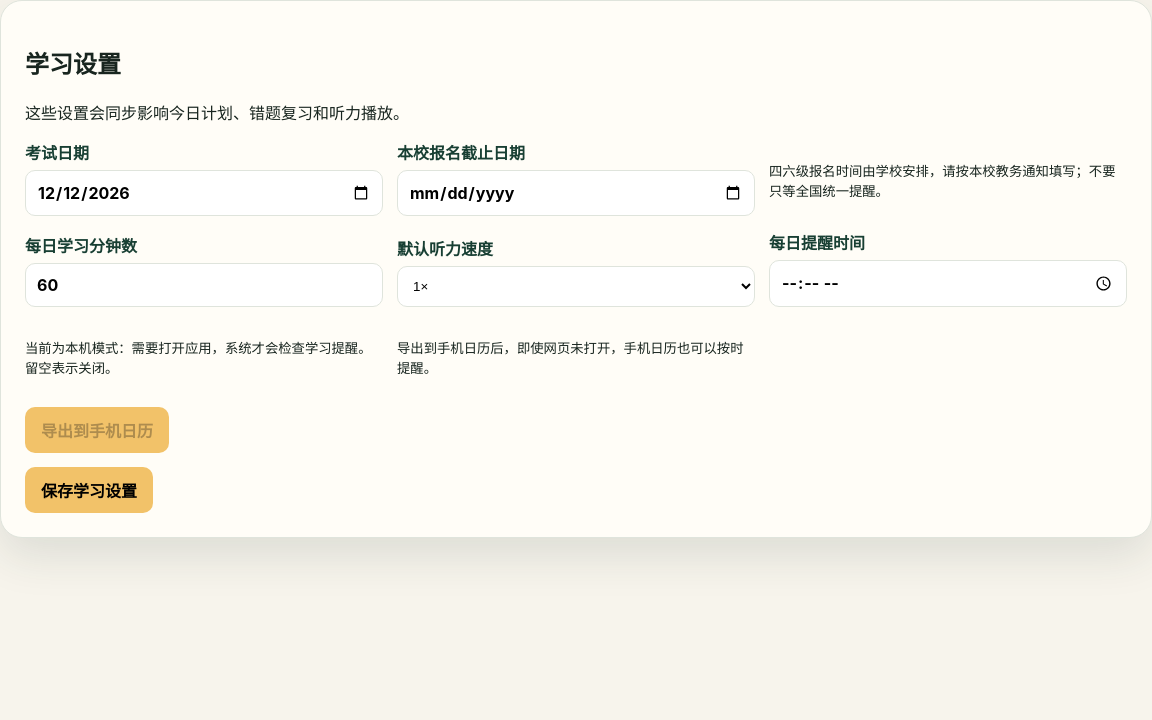
it: LearningSettings › saves the exam date, daily study time, and default listening speed
The image size is (1152, 720).
Type "2026-12-19" into the date field labelled "考试日期" at point(204, 193), box [25,170,383,216]
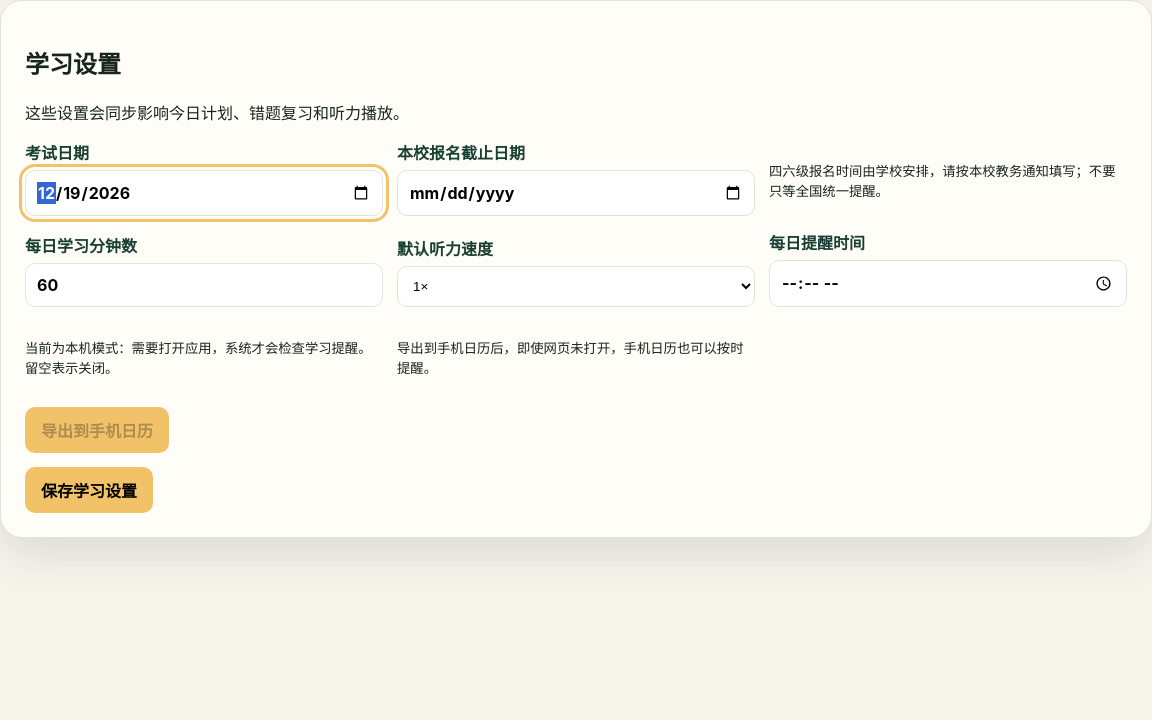
Replace the text in the number field labelled "每日学习分钟数" with "75" at point(204, 285), box [25,263,383,307]
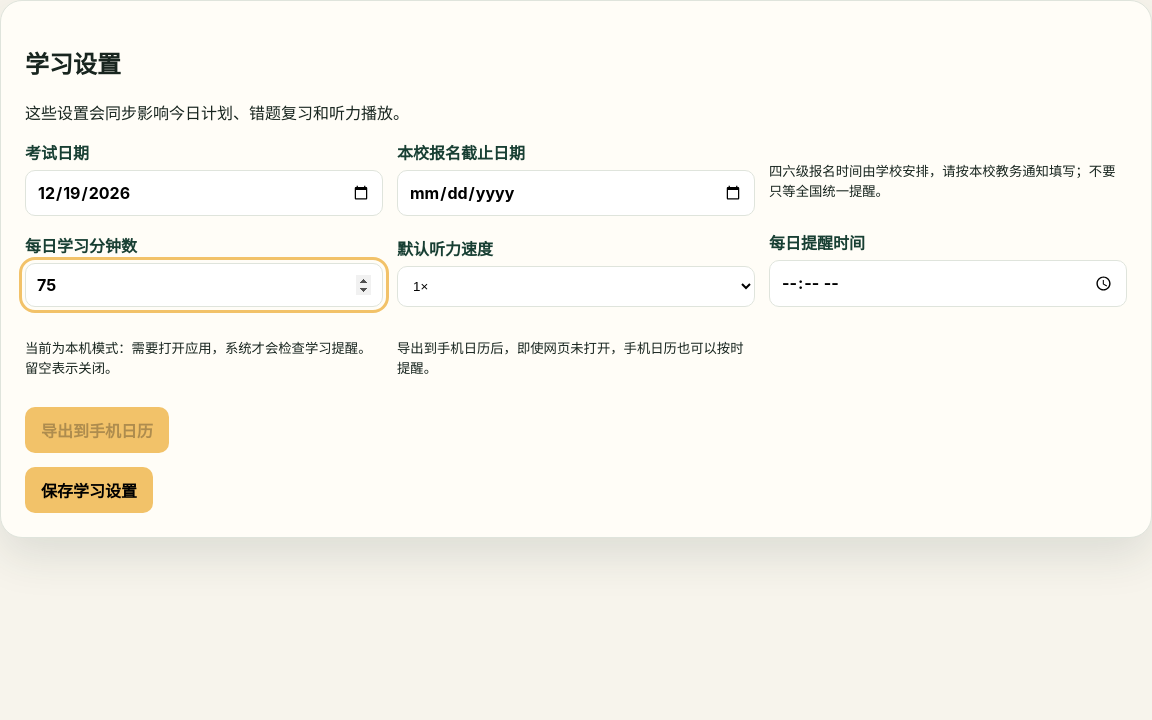
Select "1.25×" in the dropdown labelled "默认听力速度" at point(576, 286), box [397,266,755,307]
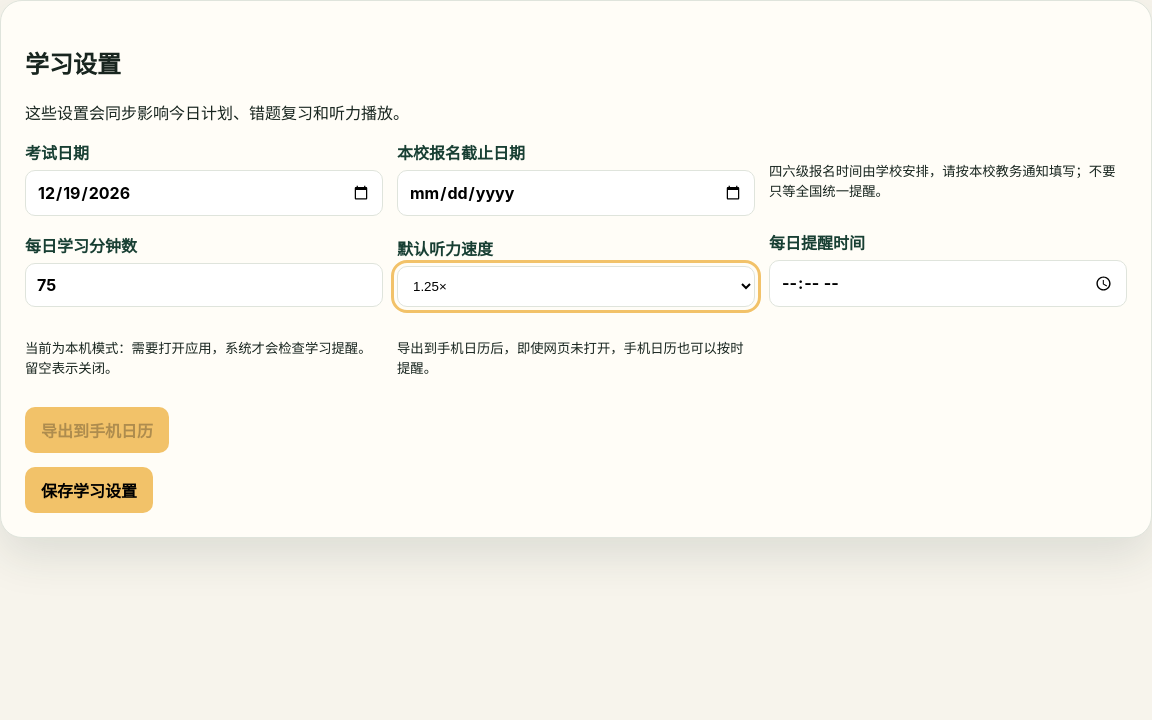
Type "20:30" into the time field labelled "每日提醒时间" at point(948, 283), box [769,260,1127,307]
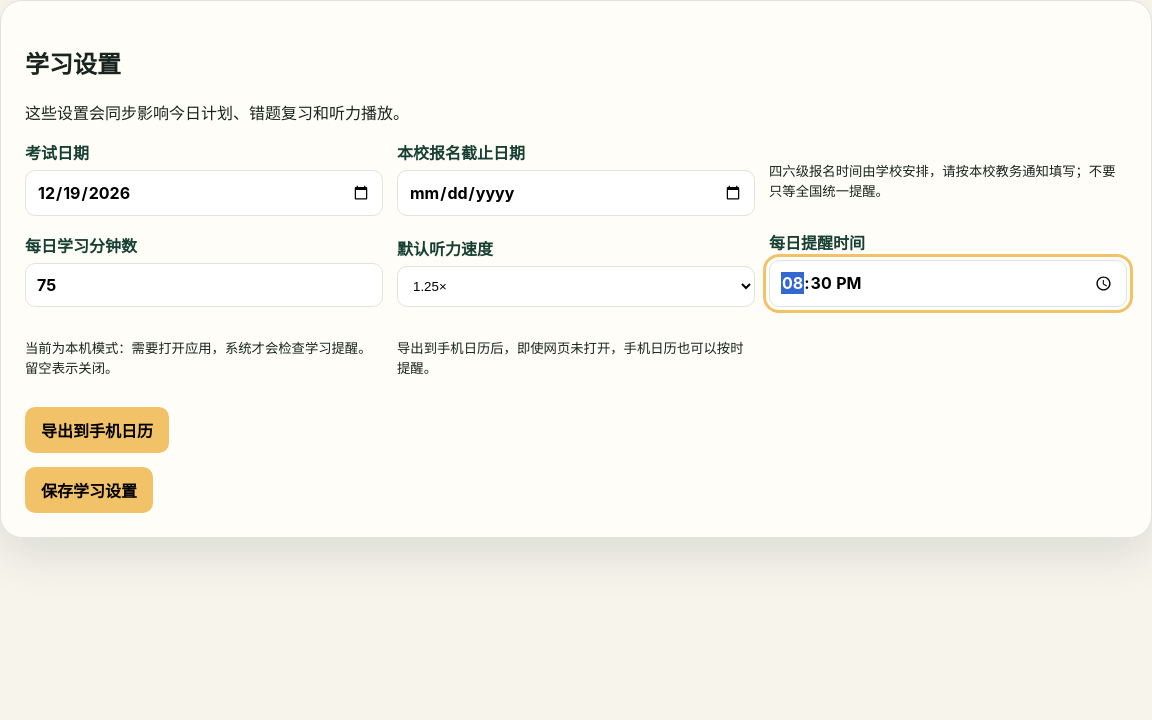
Type "2026-10-10" into the date field labelled "本校报名截止日期" at point(576, 193), box [397,170,755,216]
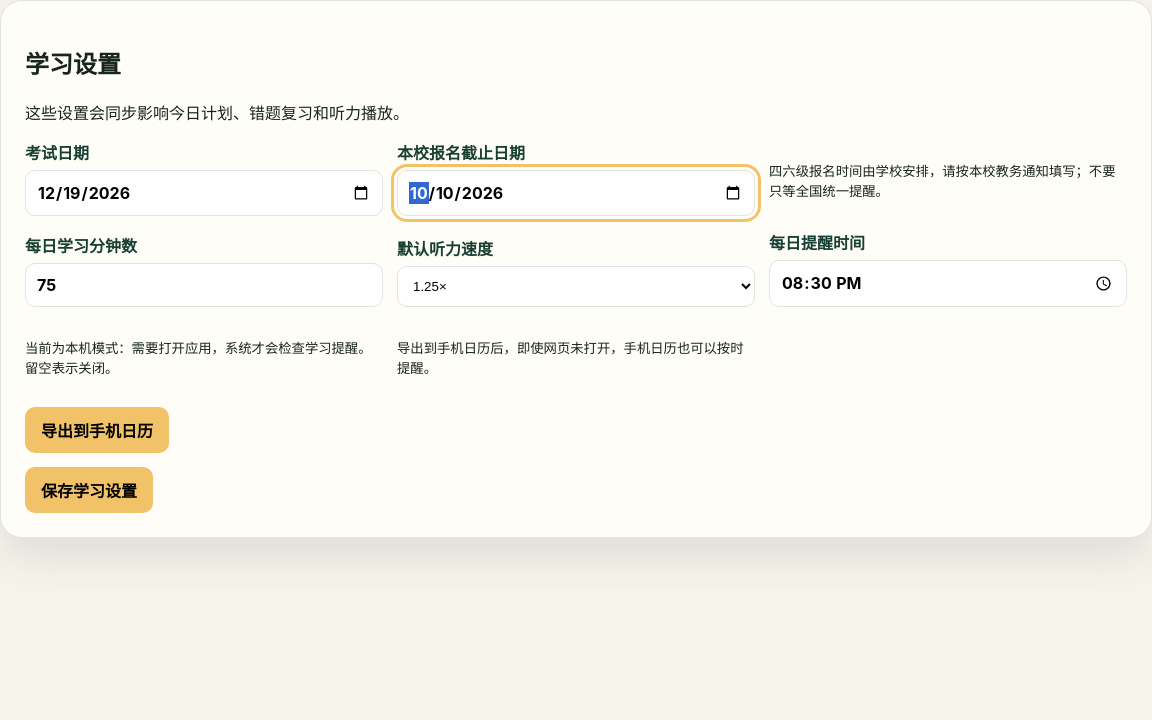
Click the button "保存学习设置" at point(89, 490), box [25,467,153,513]
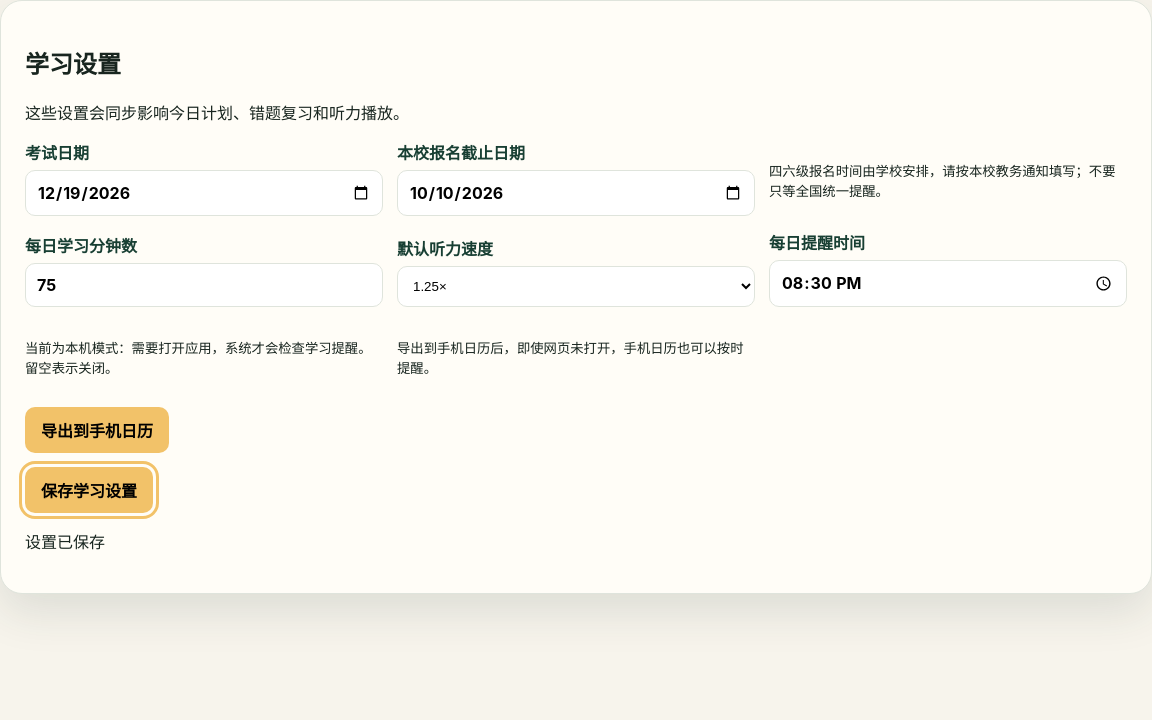
Now the text "设置已保存" is shown, box [25,532,105,552]
